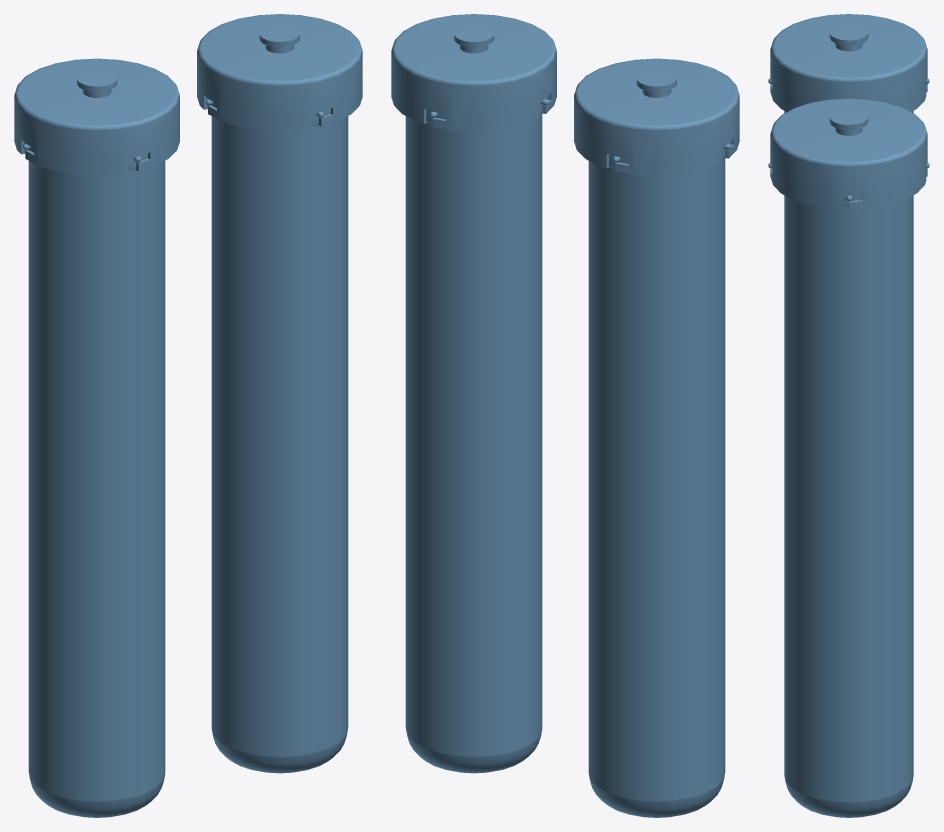
The model's file is FHXY_02BX_A20_CaiYangPing_MD_L_exp.fbx.
3 renders of one model, left to right at view 1: azimuth 30°, elevation 25°; view 2: azimuth 150°, elevation 25°; view 3: azimuth 270°, elevation 25°, orthographic. The views are drawn at different scales.
Parts seen in each view (by area): view 1: FHXY_02BX_A20_CaiYangPing_MD_L01_exp1, FHXY_02BX_A20_CaiYangPing_MD_L01_exp, FHXY_02BX_A20_CaiYangPing_MD_L02_exp, FHXY_02BX_A20_CaiYangPing_MD_L02_exp1; view 2: FHXY_02BX_A20_CaiYangPing_MD_L01_exp, FHXY_02BX_A20_CaiYangPing_MD_L01_exp1, FHXY_02BX_A20_CaiYangPing_MD_L02_exp, FHXY_02BX_A20_CaiYangPing_MD_L02_exp1; view 3: FHXY_02BX_A20_CaiYangPing_MD_L01_exp, FHXY_02BX_A20_CaiYangPing_MD_L02_exp, FHXY_02BX_A20_CaiYangPing_MD_L02_exp1.
Boxes of the visible parts, x1,y1,x2,y2 form: FHXY_02BX_A20_CaiYangPing_MD_L01_exp1: (23, 143, 165, 817); FHXY_02BX_A20_CaiYangPing_MD_L01_exp: (205, 98, 348, 773); FHXY_02BX_A20_CaiYangPing_MD_L02_exp: (197, 14, 362, 131); FHXY_02BX_A20_CaiYangPing_MD_L02_exp1: (14, 58, 179, 176); FHXY_02BX_A20_CaiYangPing_MD_L01_exp: (405, 97, 548, 773); FHXY_02BX_A20_CaiYangPing_MD_L01_exp1: (588, 141, 730, 817); FHXY_02BX_A20_CaiYangPing_MD_L02_exp: (391, 14, 556, 131); FHXY_02BX_A20_CaiYangPing_MD_L02_exp1: (574, 58, 739, 176); FHXY_02BX_A20_CaiYangPing_MD_L01_exp: (768, 162, 929, 817); FHXY_02BX_A20_CaiYangPing_MD_L02_exp: (770, 98, 927, 209); FHXY_02BX_A20_CaiYangPing_MD_L02_exp1: (770, 14, 927, 111).
Size of the model in its own units: 20.69 by 43.14 by 9.24.
